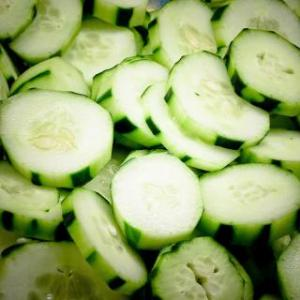cucumber: (0, 89, 112, 191)
